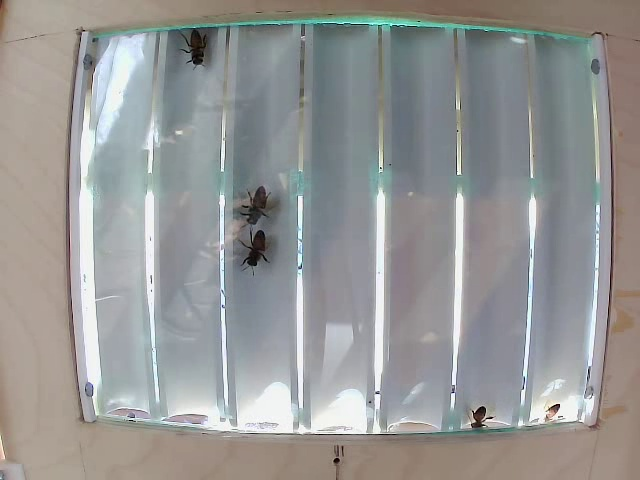bee: (245, 227, 276, 278), (247, 188, 270, 222)
